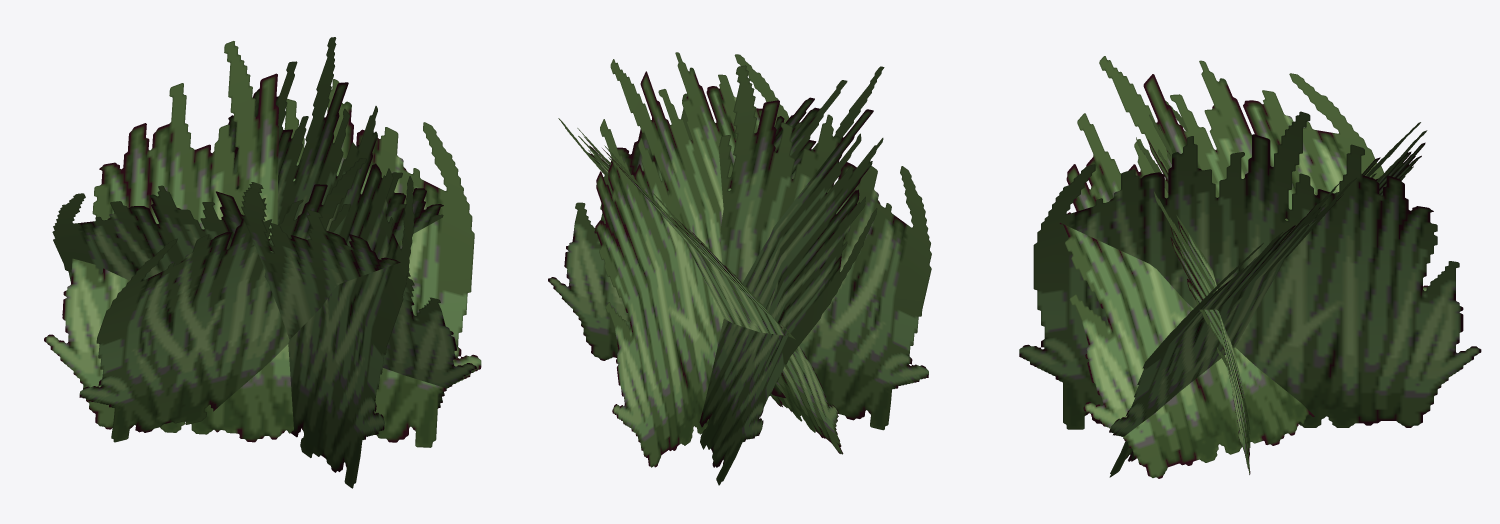
The model's file is plant_grass1.fbx.
3 views of the same model, side by side, from view 1: azimuth 30°, elevation 25°; view 2: azimuth 150°, elevation 25°; view 3: azimuth 270°, elevation 25° (orthographic). The views are drawn at different scales.
Parts seen in each view (by area): view 1: plant_grass1; view 2: plant_grass1; view 3: plant_grass1.
Boxes of the visible parts, x1=… form: plant_grass1: x1=44, y1=37, x2=481, y2=488; plant_grass1: x1=548, y1=52, x2=931, y2=485; plant_grass1: x1=1019, y1=56, x2=1481, y2=478.
Bounding box in the file's own units: 106 × 89.99 × 101.
1 material, 1 textured.
